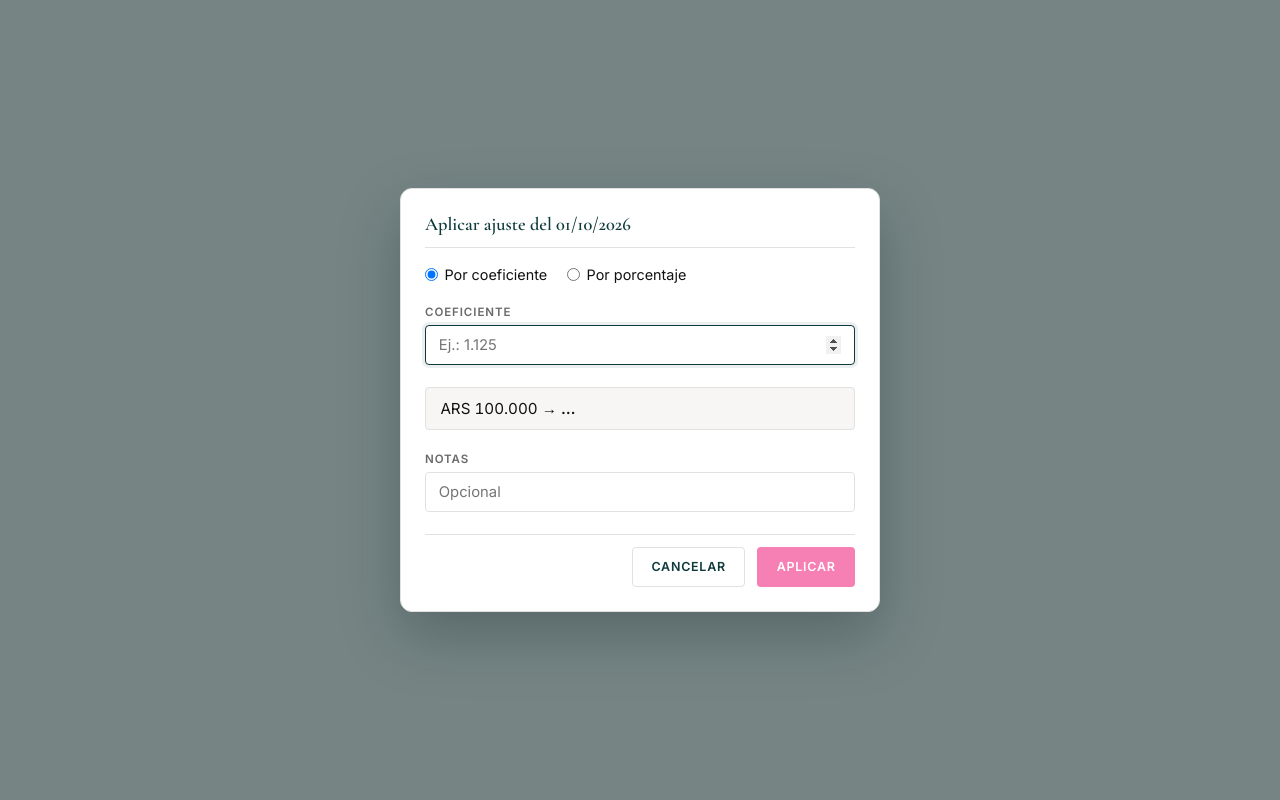
muestra el detail del backend si aplicar falla
The image size is (1280, 800).
Type "1.1" into the number field labelled "Coeficiente" at (640, 345), box [425,325,855,365]
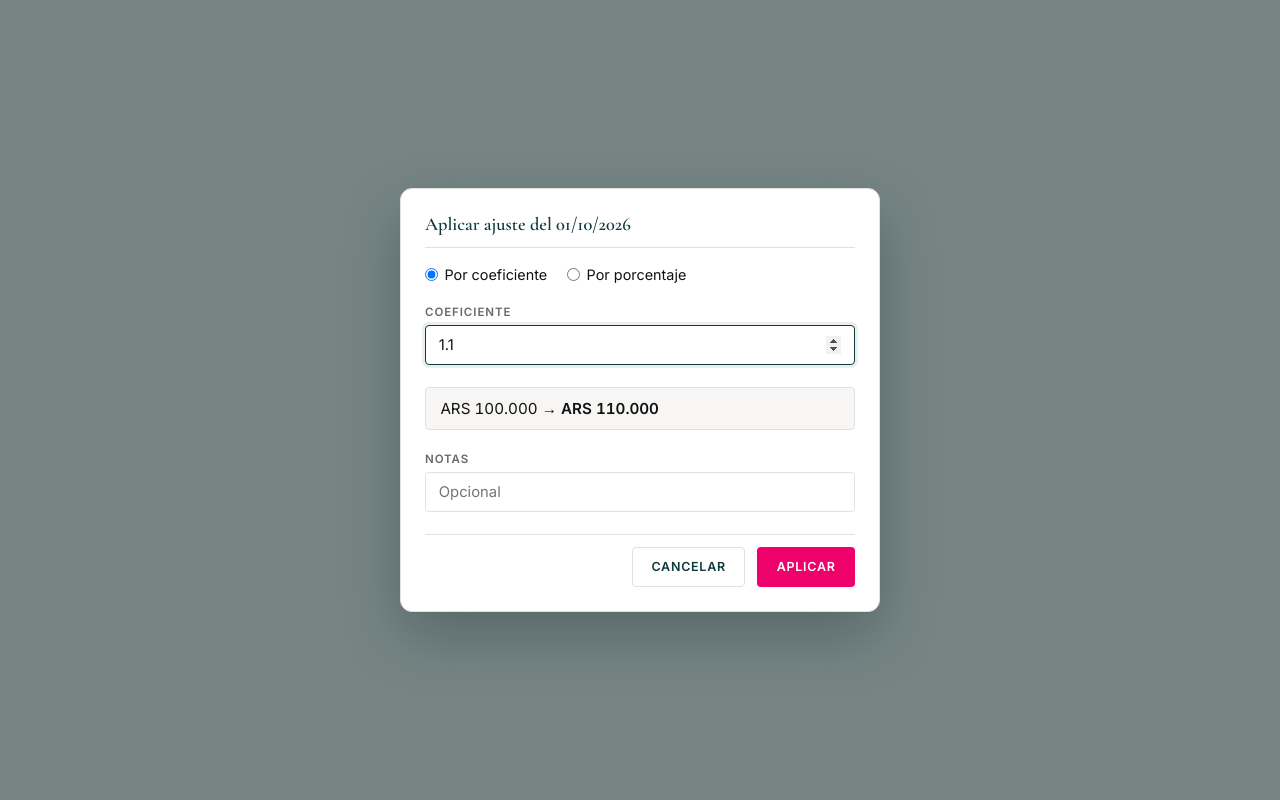
Click the button "Aplicar" at (806, 567), box [757,547,855,587]
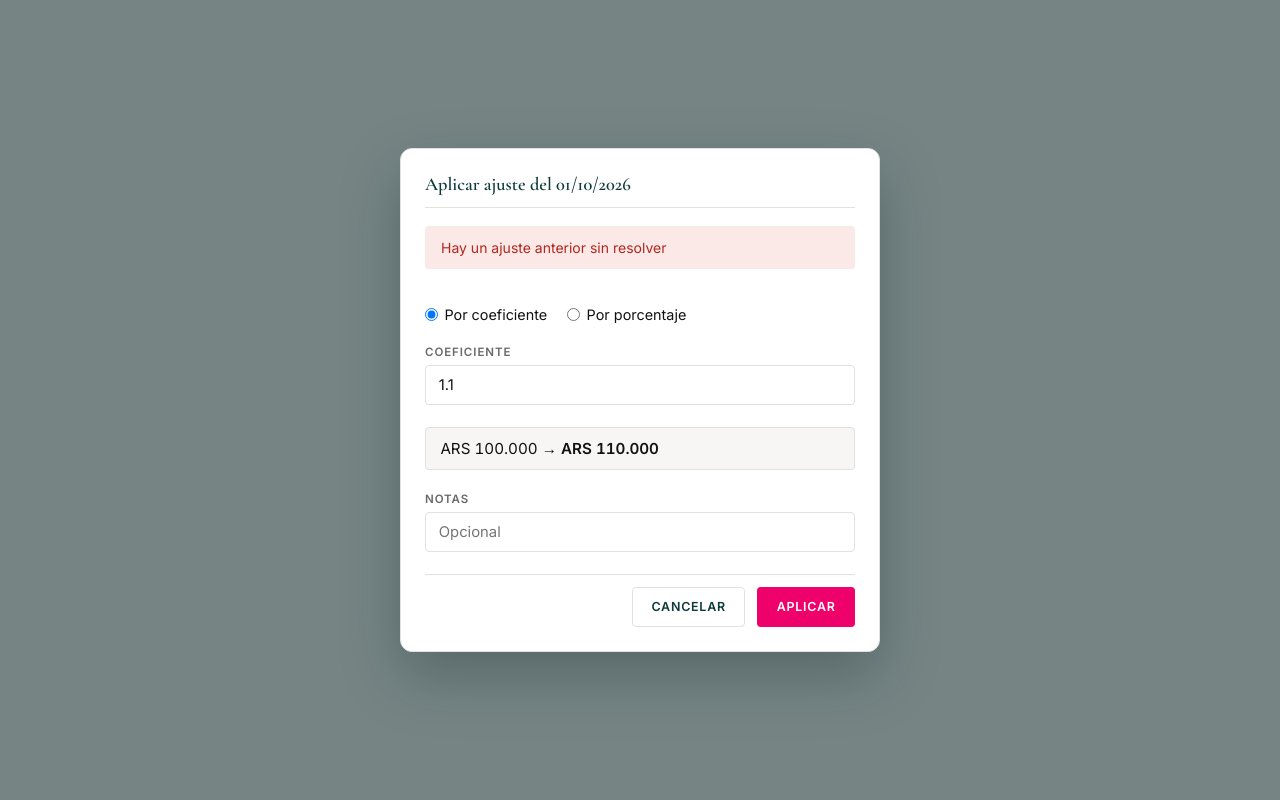
Check: the message reads "Hay un ajuste anterior sin resolver", box [441,239,666,256]
